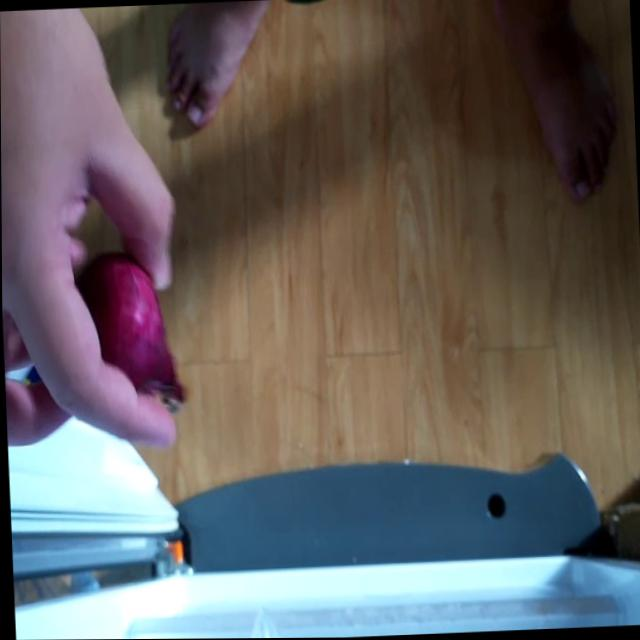onion: (86, 248, 190, 410)
